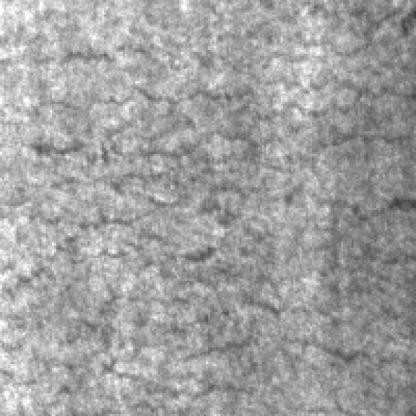crazing: (2, 14, 400, 414)
